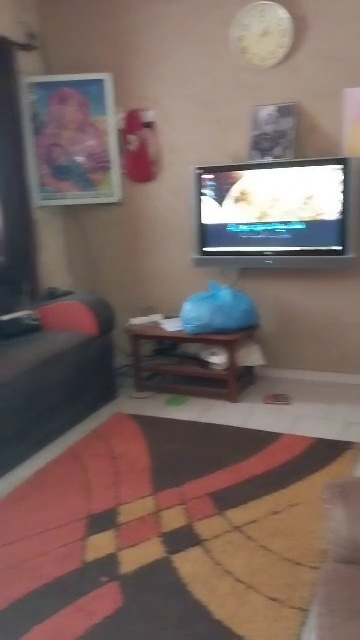television: (185, 153, 360, 269)
